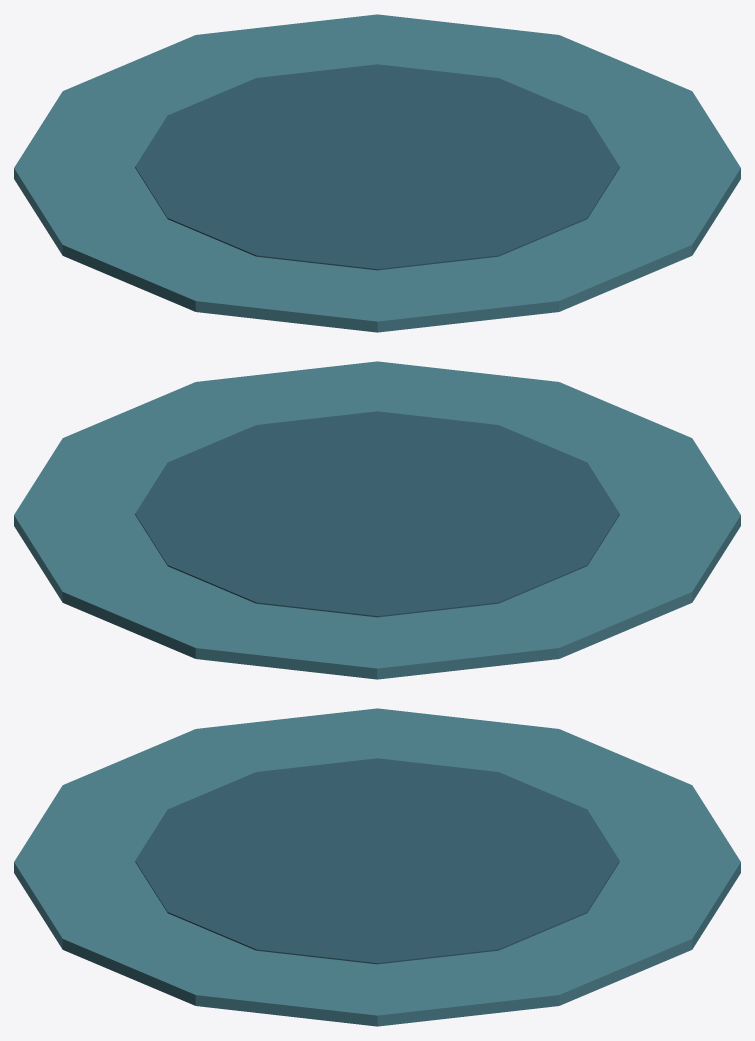
The model's file is cistern_pool.glb.
3 renders of one model, top to bottom at view 1: azimuth 30°, elevation 25°; view 2: azimuth 150°, elevation 25°; view 3: azimuth 270°, elevation 25°, orthographic.
Visible parts, largest first — view 1: mesh_water; view 2: mesh_water; view 3: mesh_water.
Boxes of the visible parts, <box> form: mesh_water: <box>14,14,740,332</box>; mesh_water: <box>14,361,740,679</box>; mesh_water: <box>14,708,740,1026</box>.
Bounding box in the file's own units: 3.6 × 0.067 × 3.6.
